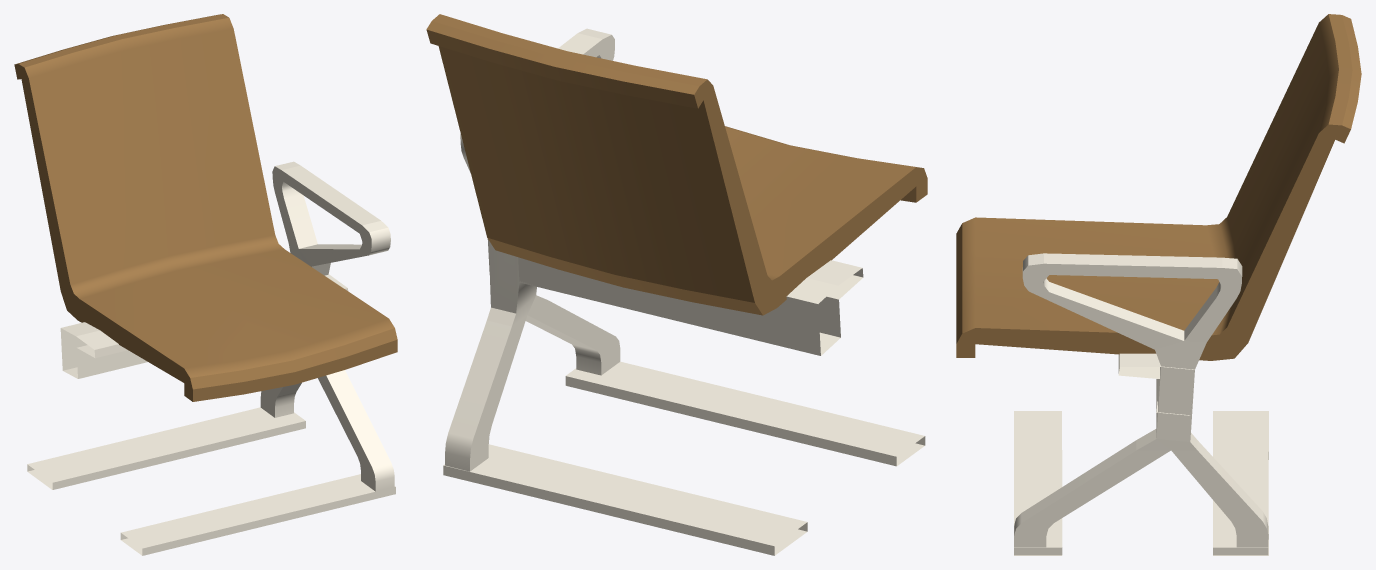
The model's file is Chair-WaitingRoom_01.fbx.
3 renders of one model, left to right at view 1: azimuth 30°, elevation 25°; view 2: azimuth 150°, elevation 25°; view 3: azimuth 270°, elevation 25°, orthographic. The views are drawn at different scales.
Visible parts, largest first — view 1: Chair_WaitingRoom_Mid, Chair_WaitingRoom_End; view 2: Chair_WaitingRoom_End, Chair_WaitingRoom_Mid; view 3: Chair_WaitingRoom_Mid, Chair_WaitingRoom_End.
Boxes of the visible parts, box(x1,y1,x2,y2) form: Chair_WaitingRoom_Mid: box(14, 14, 397, 555); Chair_WaitingRoom_End: box(23, 87, 394, 555); Chair_WaitingRoom_End: box(438, 28, 924, 555); Chair_WaitingRoom_Mid: box(426, 14, 927, 555); Chair_WaitingRoom_Mid: box(956, 14, 1361, 555); Chair_WaitingRoom_End: box(975, 134, 1334, 555).
Size of the model in its own units: 65.94 by 94.09 by 82.6.
